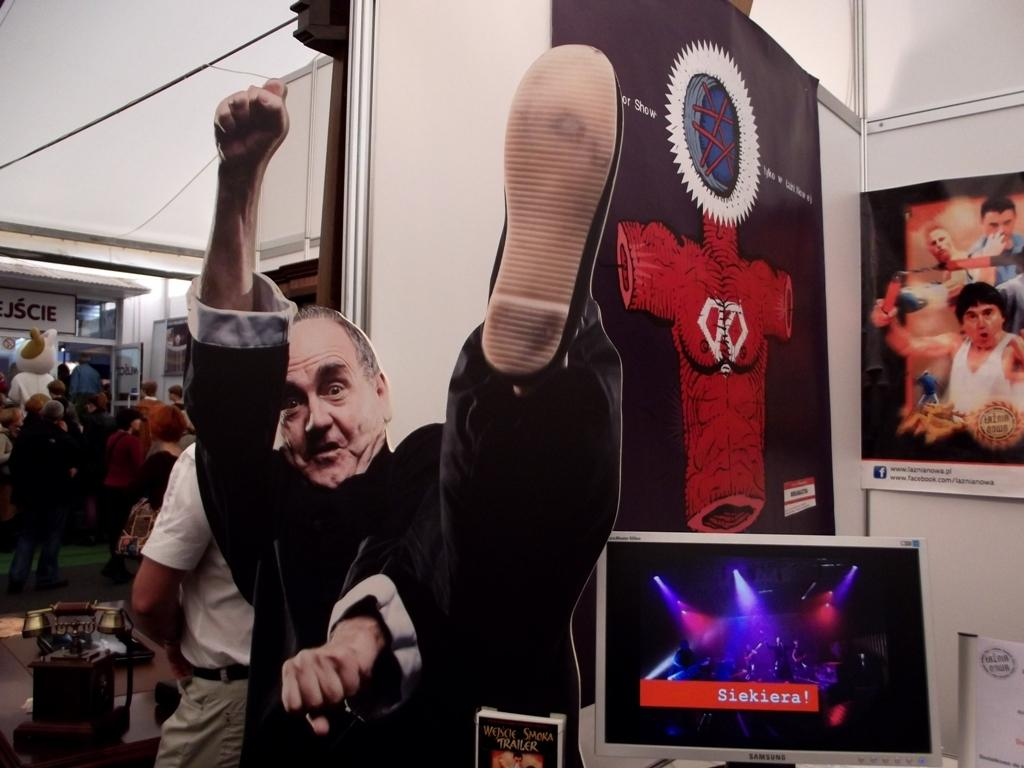Computer-keyboard: (579, 527, 946, 766)
